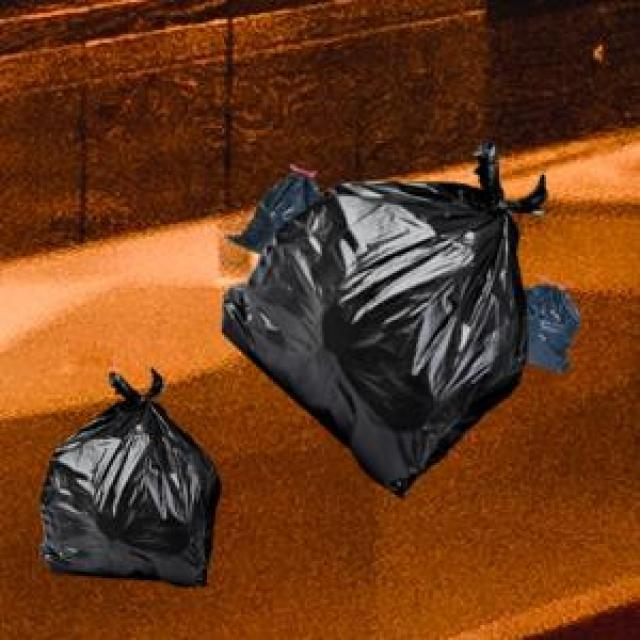Vinyl: (224, 142, 579, 493), (42, 370, 216, 584)
